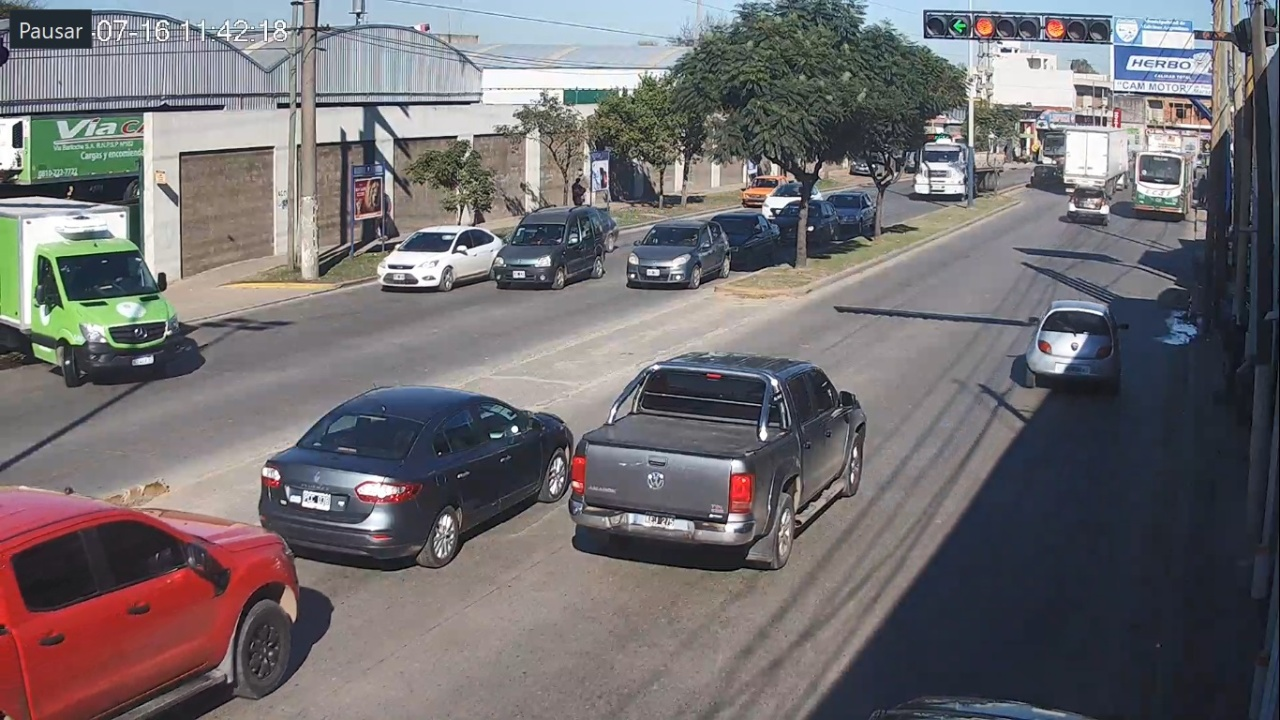car: (1, 485, 301, 720), (568, 351, 867, 569), (1026, 299, 1129, 389)
front car: (494, 206, 604, 290), (627, 219, 731, 289)
front truck: (11, 196, 180, 387)
traffic light: (974, 11, 1112, 42)
